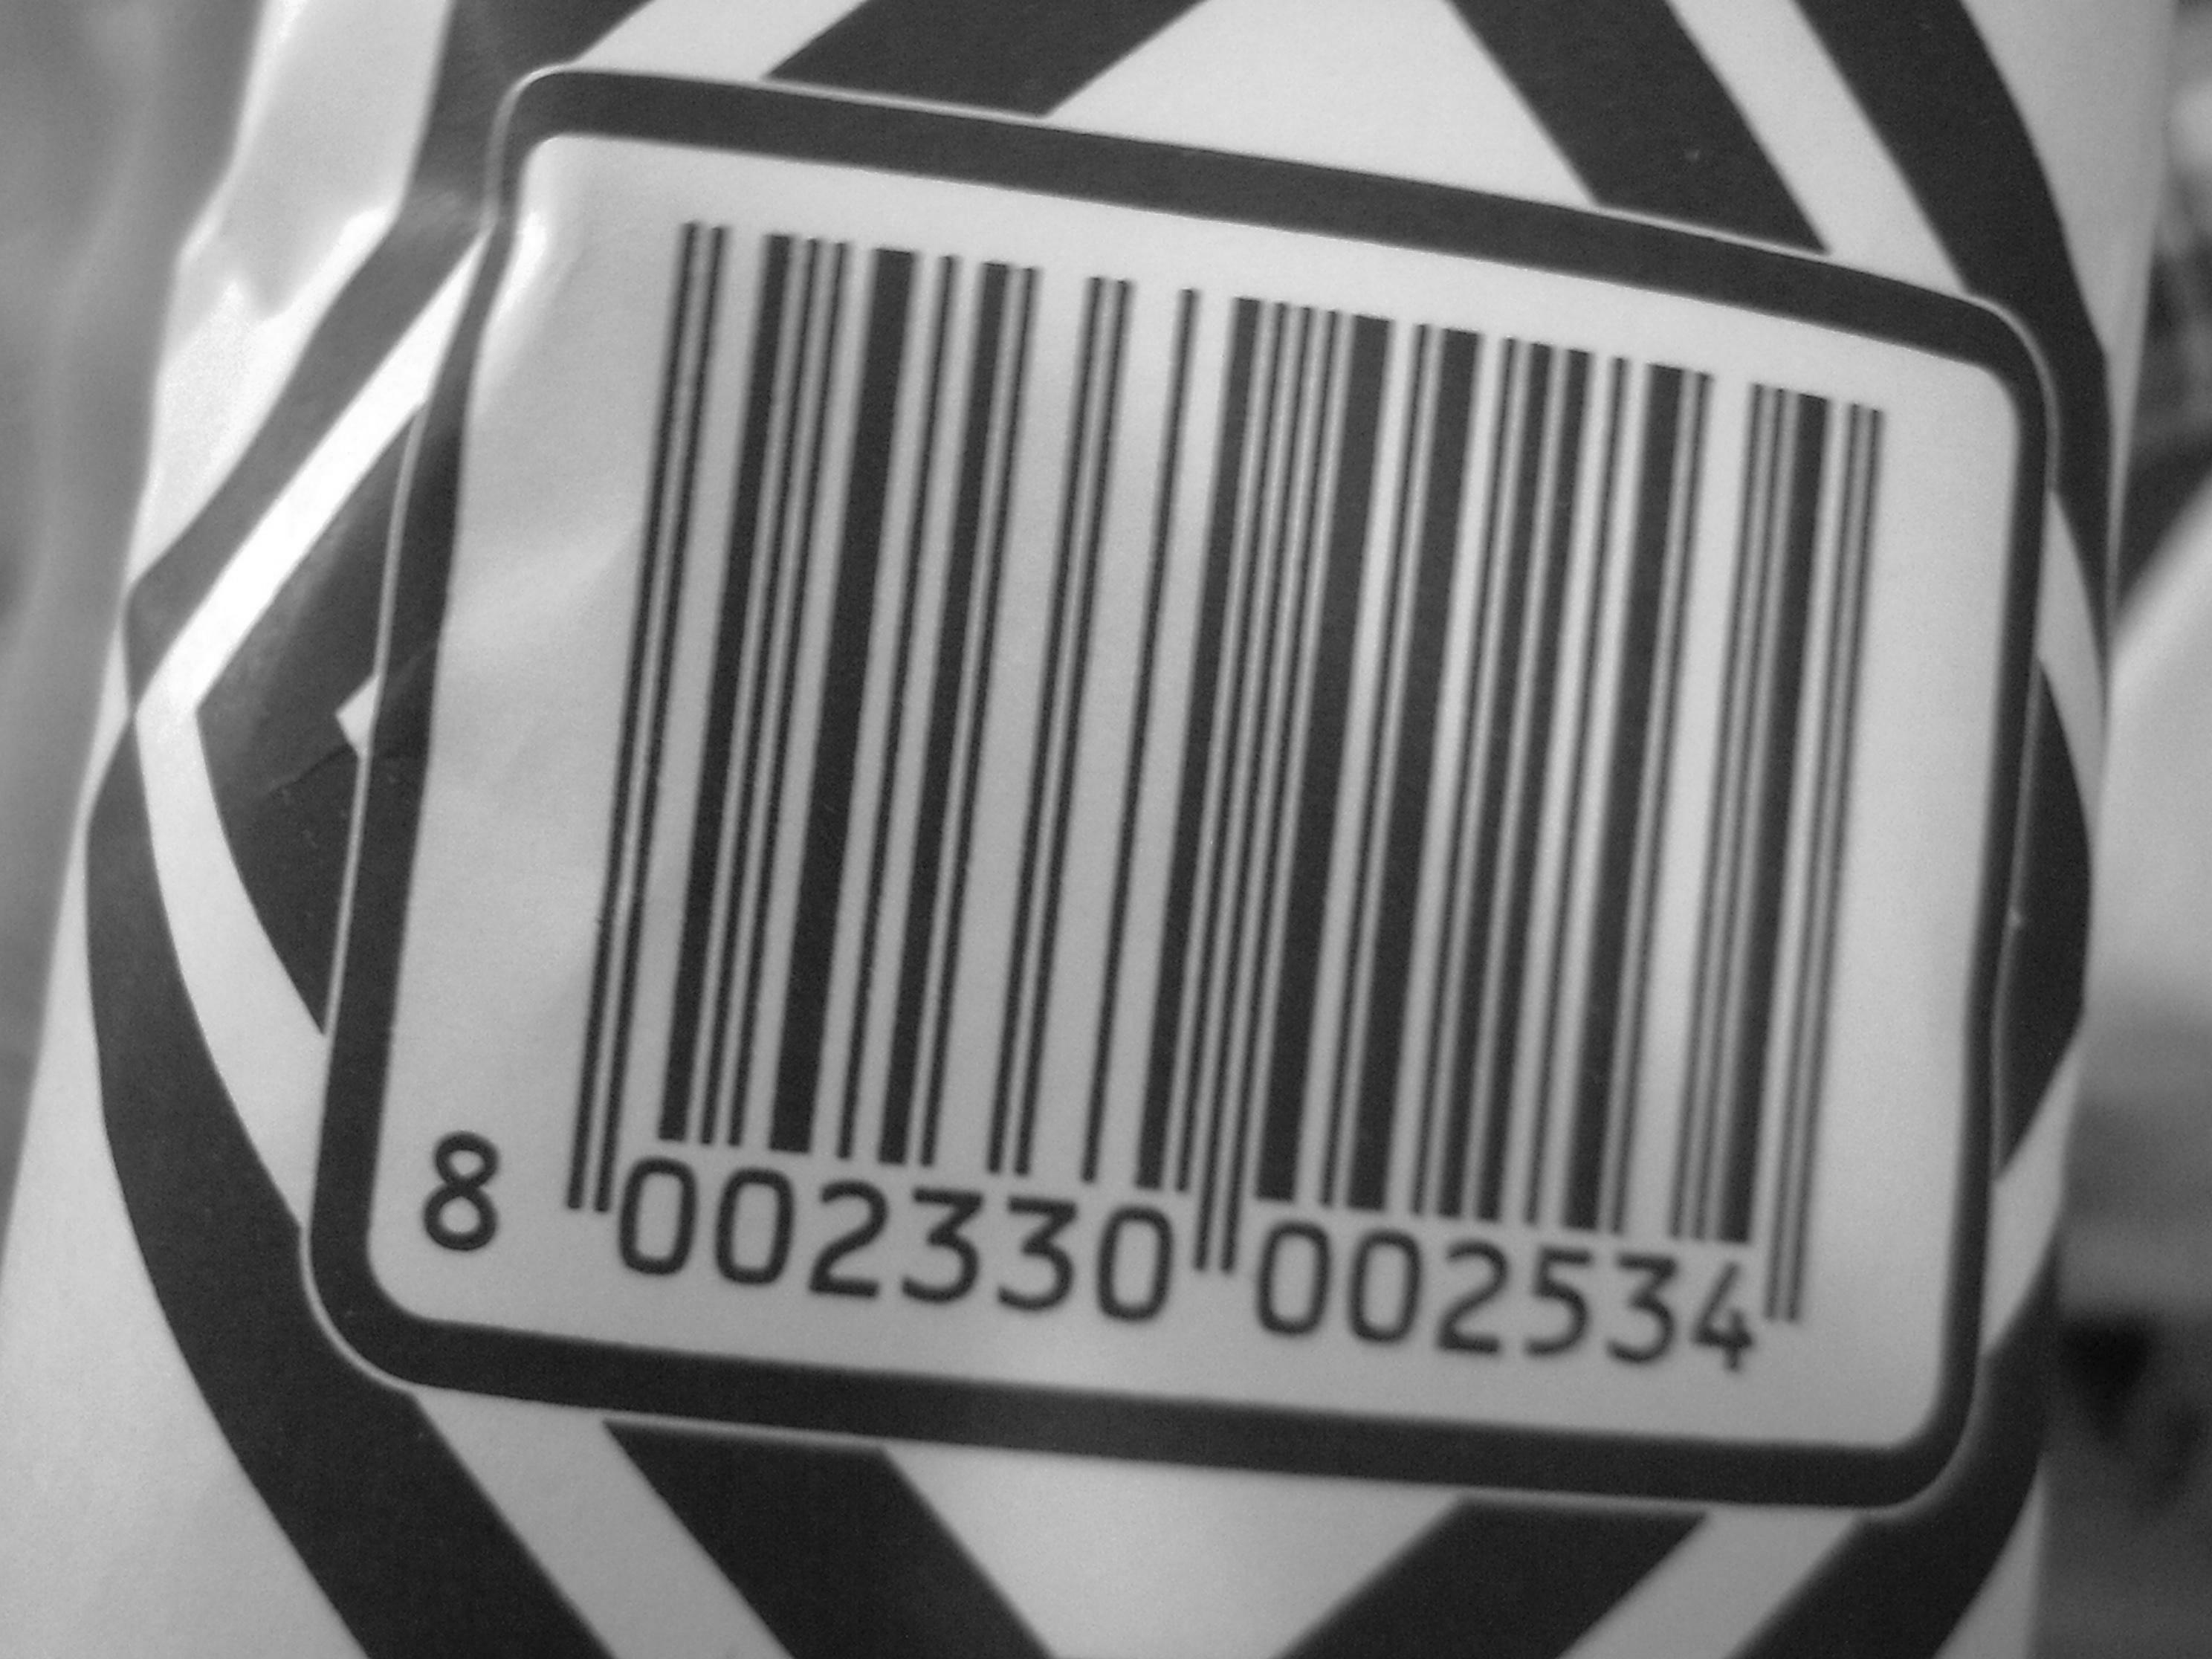Barcode: (654, 245, 1864, 1269)
